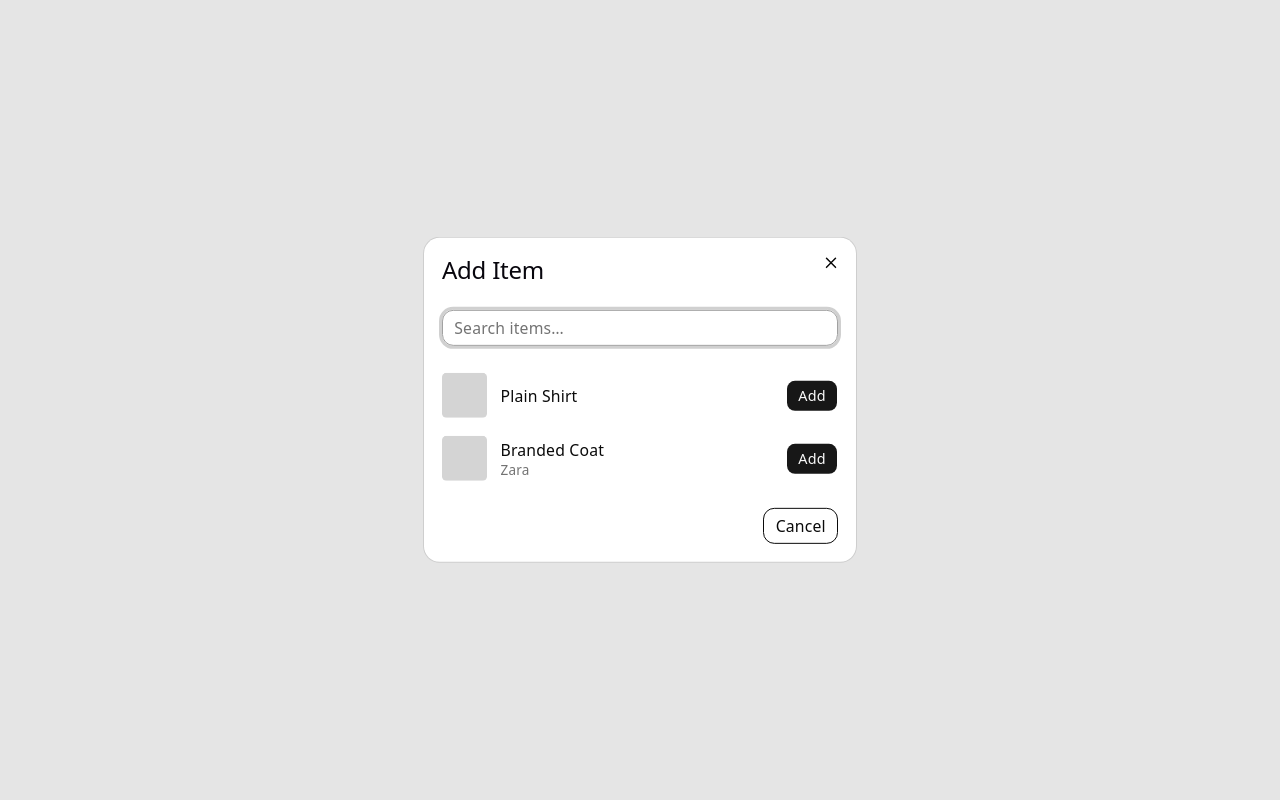
ItemPicker › ItemPicker should match brand-only search against items with null brand gracefully
Expected: the text "Branded Coat" is shown, [500,438,604,460]
Type "zara" into the field with placeholder "Search items…".
click(640, 328); type("zara")  # box [442,310,838,346]
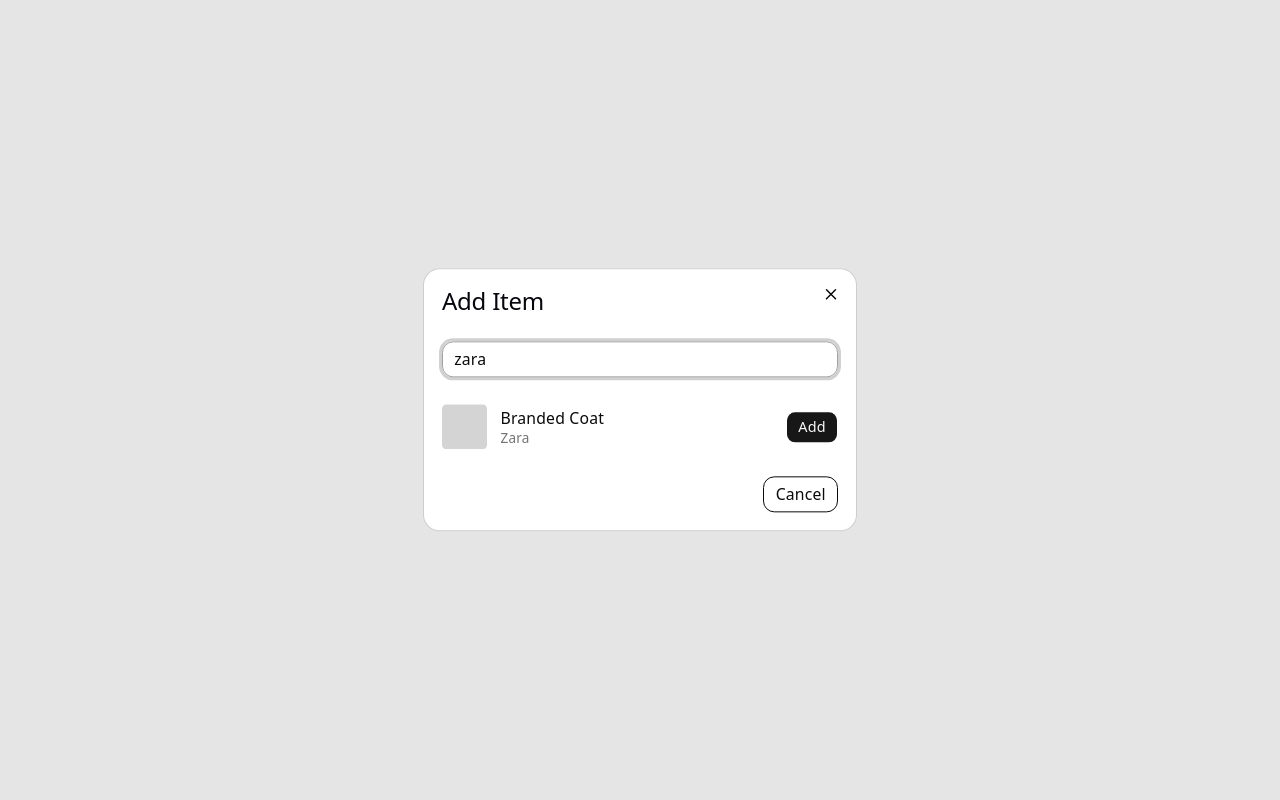
Expected: the text "Branded Coat" is shown, [500,407,604,429]
Expected: the text "Plain Shirt" is gone
